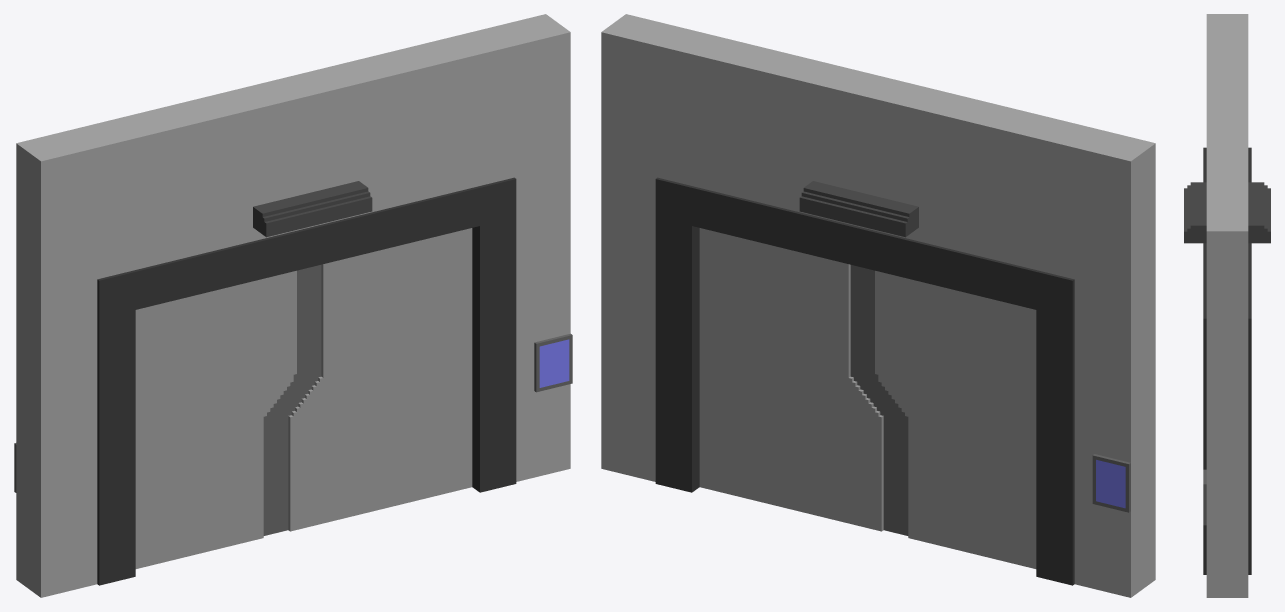
File: Operating_room_Door2-3-1.fbx
3 views of the same model, side by side, from view 1: azimuth 30°, elevation 25°; view 2: azimuth 150°, elevation 25°; view 3: azimuth 270°, elevation 25° (orthographic). The views are drawn at different scales.
Visible parts, largest first — view 1: Operating room Door2-3-1.003, Operating room Door2-3-1.009, Operating room Door2-3-1.002, Operating room Door2-3-1.001, Operating room Door2-3-1.010, Operating room Door2-3-1.011; view 2: Operating room Door2-3-1.003, Operating room Door2-3-1.009, Operating room Door2-3-1.002, Operating room Door2-3-1.001, Operating room Door2-3-1.010, Operating room Door2-3-1.008; view 3: Operating room Door2-3-1.010, Operating room Door2-3-1.003, Operating room Door2-3-1.001.
Boxes of the visible parts, x1=… form: Operating room Door2-3-1.003: x1=73, y1=28, x2=516, y2=585; Operating room Door2-3-1.009: x1=275, y1=228, x2=472, y2=533; Operating room Door2-3-1.002: x1=135, y1=268, x2=308, y2=568; Operating room Door2-3-1.001: x1=14, y1=129, x2=97, y2=597; Operating room Door2-3-1.010: x1=490, y1=14, x2=572, y2=481; Operating room Door2-3-1.011: x1=539, y1=339, x2=569, y2=387; Operating room Door2-3-1.003: x1=655, y1=28, x2=1098, y2=585; Operating room Door2-3-1.009: x1=699, y1=228, x2=896, y2=533; Operating room Door2-3-1.002: x1=863, y1=268, x2=1036, y2=568; Operating room Door2-3-1.001: x1=1074, y1=129, x2=1155, y2=597; Operating room Door2-3-1.010: x1=601, y1=14, x2=681, y2=481; Operating room Door2-3-1.008: x1=1096, y1=459, x2=1125, y2=508; Operating room Door2-3-1.010: x1=1203, y1=208, x2=1248, y2=597; Operating room Door2-3-1.003: x1=1184, y1=37, x2=1270, y2=574; Operating room Door2-3-1.001: x1=1206, y1=14, x2=1248, y2=36.
Bounding box in the file's own units: 16 × 12.6 × 2.7.
